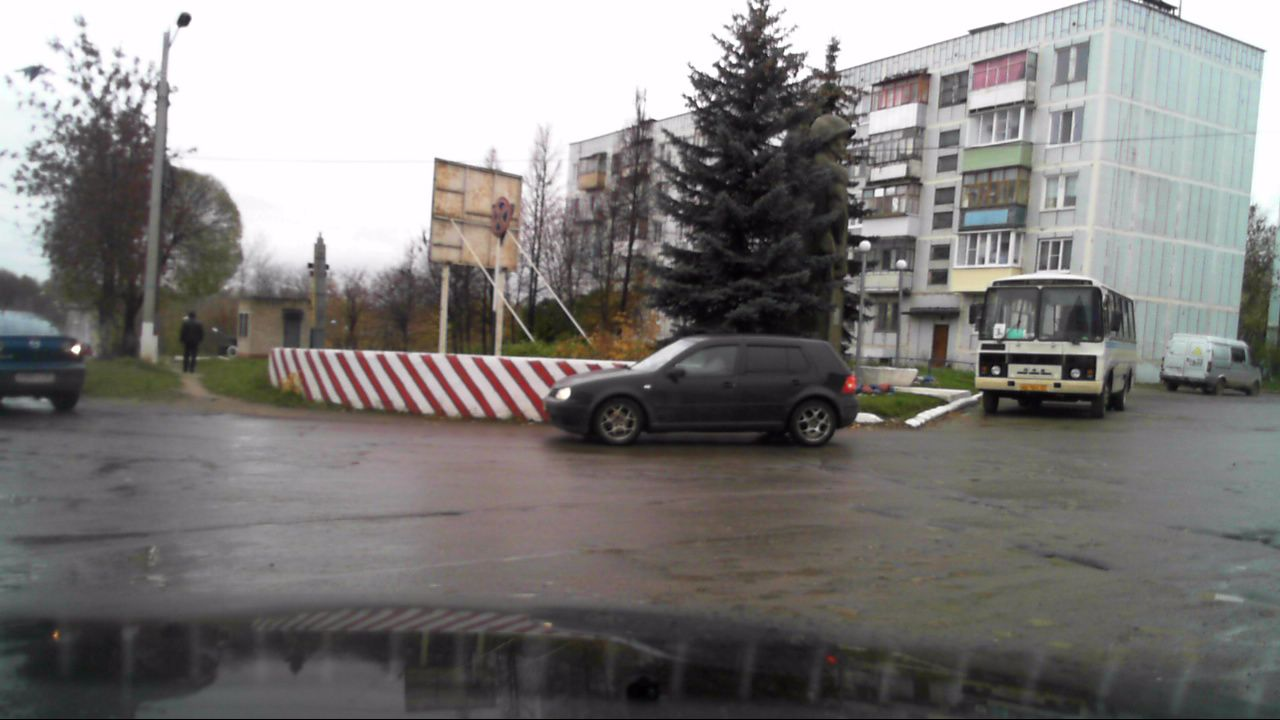No Parking: (491, 197, 512, 235)
